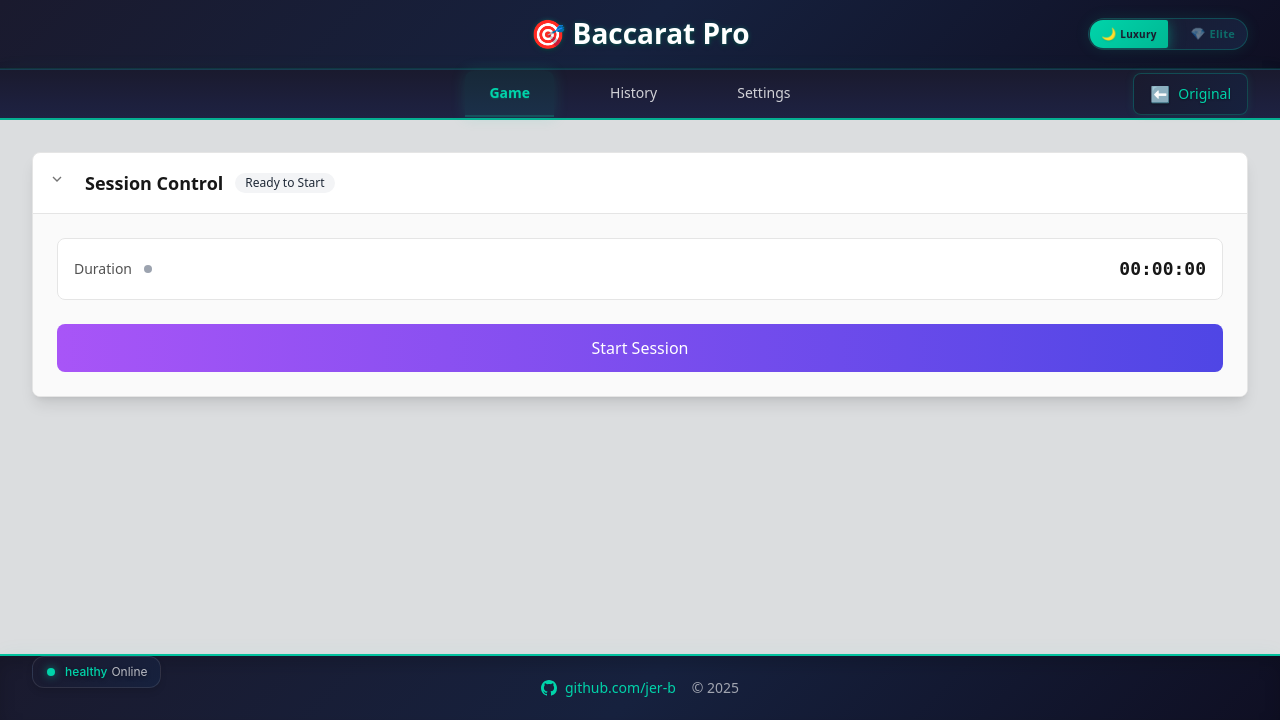
Theme Persistence E2E › Theme Toggle UI Behavior › should show correct theme labels and icons
Expected: the element with class "theme-toggle__label--right" shows "Elite", left=1191, top=25, right=1236, bottom=43
Expected: the icon with class "theme-toggle__icon" reads "💎", left=1191, top=25, right=1206, bottom=43
// Switch to Elite
Click the element with class "theme-toggle__track": click(1168, 34) left=1088, top=18, right=1248, bottom=50
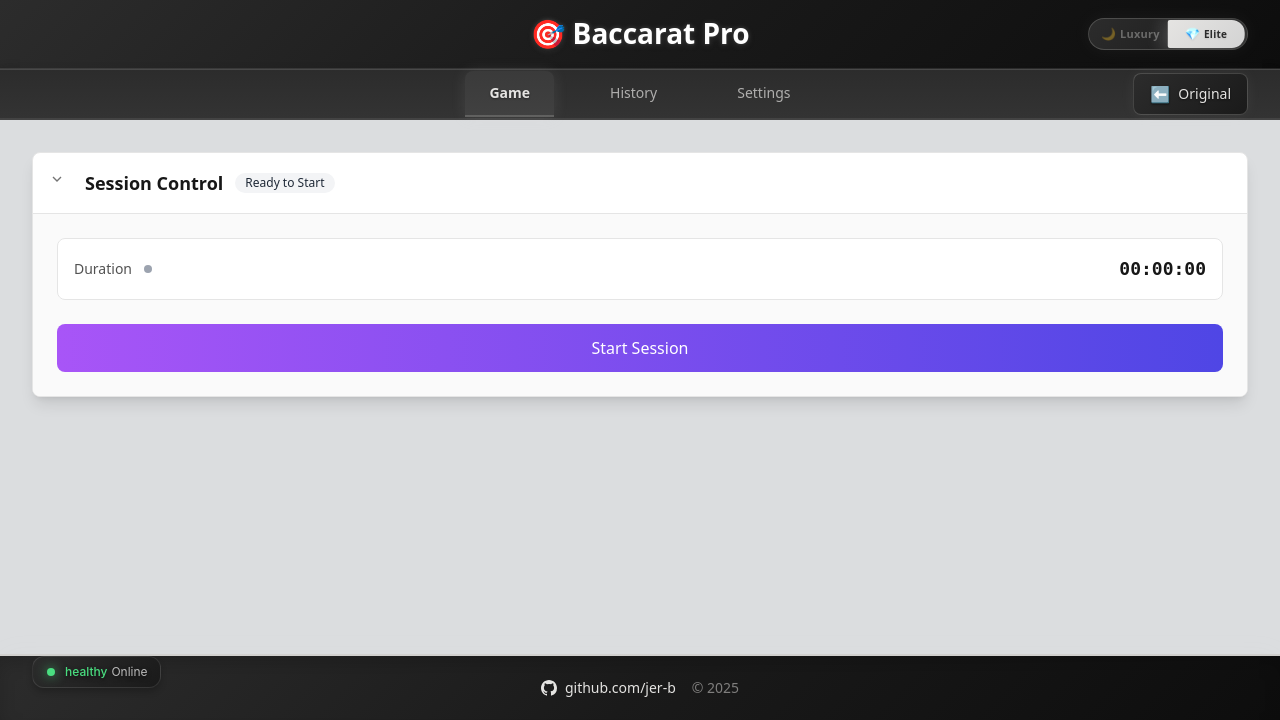
Now the icon with class "theme-toggle__slider-icon" reads "💎", box left=1185, top=25, right=1200, bottom=43
Now the text with class "theme-toggle__slider-text" reads "Elite", box left=1204, top=27, right=1227, bottom=42
